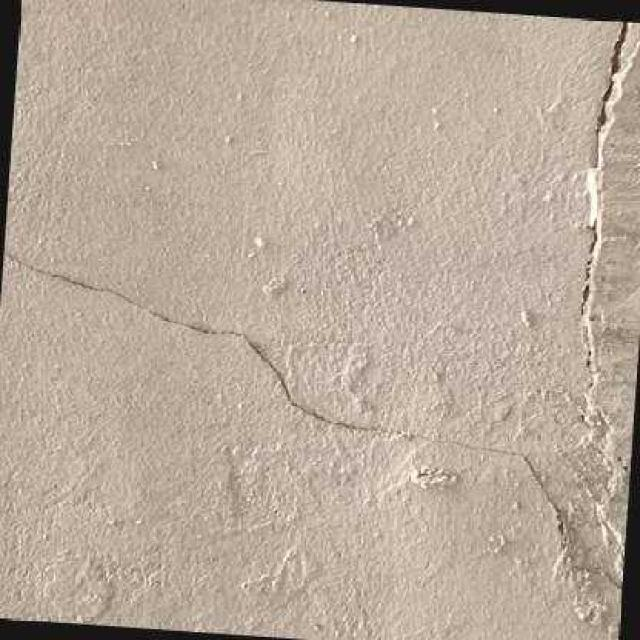D00: (4, 251, 620, 586), (576, 20, 631, 396)
